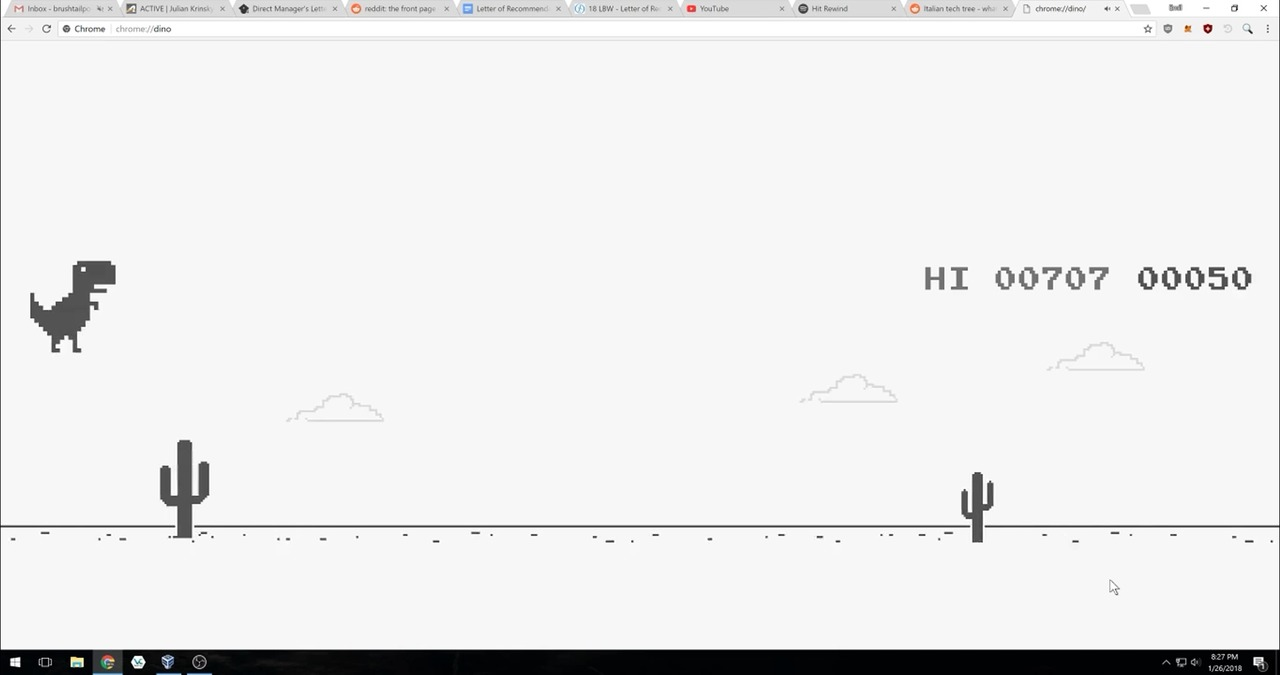cactus: (153, 440, 214, 543), (957, 468, 998, 547)
dinosaur: (28, 258, 115, 355)
